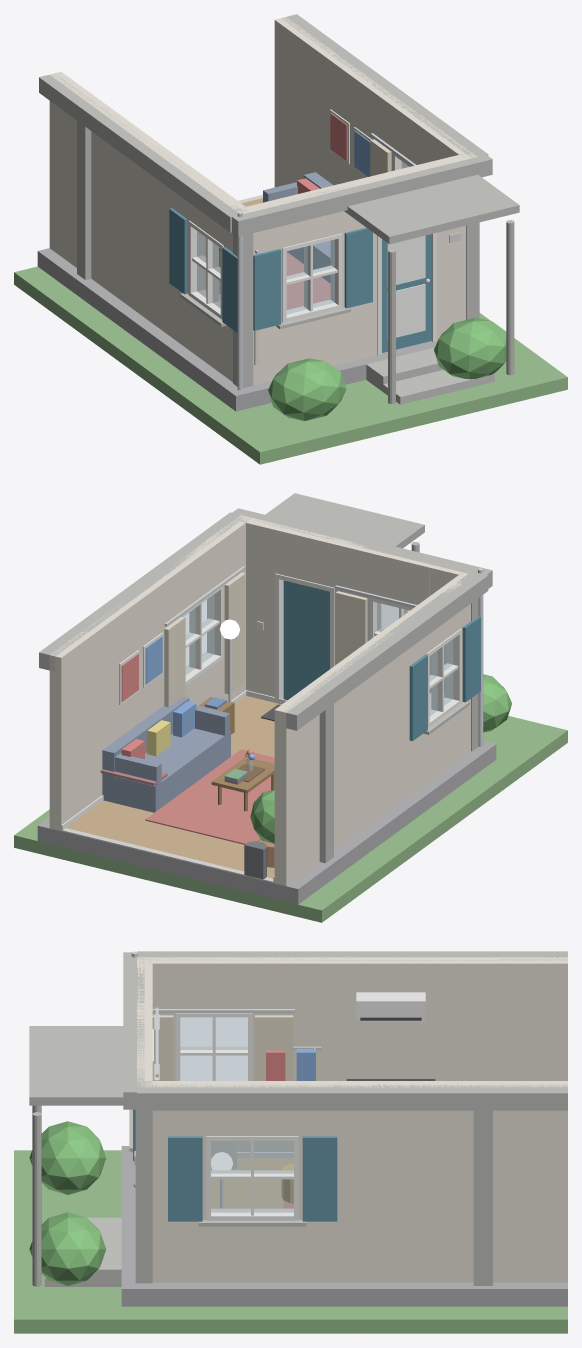
The model's file is tube_living.glb.
3 views of the same model, one above another, from view 1: azimuth 30°, elevation 25°; view 2: azimuth 150°, elevation 25°; view 3: azimuth 270°, elevation 25° (orthographic). The views are drawn at different scales.
Parts seen in each view (by area): view 1: wall, concrete, grass, trim, door, green, foundation, stone, glass, sofa, metal, rug (+3 smaller); view 2: wall, concrete, grass, foundation, trim, sofa, door, floor_wood, curtain_warm, rug, glass, green (+7 smaller); view 3: wall, concrete, grass, foundation, glass, green, door, trim, curtain_warm, stone, floor_wood, white (+3 smaller).
Part boxes in pixels (left/top/right/bottom): wall: left=49, top=17, right=477, bottom=384; concrete: left=39, top=14, right=519, bottom=403; grass: left=14, top=266, right=567, bottom=464; trim: left=188, top=109, right=436, bottom=355; door: left=169, top=208, right=431, bottom=352; green: left=268, top=317, right=506, bottom=420; foundation: left=37, top=248, right=437, bottom=411; stone: left=180, top=293, right=494, bottom=404; glass: left=197, top=162, right=408, bottom=313; sofa: left=263, top=172, right=333, bottom=283; metal: left=237, top=133, right=460, bottom=390; rug: left=206, top=238, right=330, bottom=309; wall: left=49, top=515, right=470, bottom=886; concrete: left=39, top=493, right=492, bottom=863; grass: left=14, top=716, right=567, bottom=922; foundation: left=37, top=741, right=496, bottom=904; trim: left=61, top=573, right=461, bottom=881; sofa: left=102, top=696, right=230, bottom=812; door: left=283, top=580, right=480, bottom=740; floor_wood: left=66, top=696, right=281, bottom=878; curtain_warm: left=164, top=572, right=445, bottom=707; rug: left=145, top=749, right=274, bottom=844; glass: left=184, top=594, right=452, bottom=771; green: left=250, top=674, right=511, bottom=843; wall: left=137, top=957, right=567, bottom=1282; concrete: left=29, top=951, right=567, bottom=1286; grass: left=14, top=1150, right=567, bottom=1333; foundation: left=121, top=1146, right=567, bottom=1306; glass: left=180, top=1017, right=293, bottom=1212; green: left=29, top=1121, right=106, bottom=1285; door: left=133, top=1109, right=337, bottom=1221; trim: left=152, top=1013, right=298, bottom=1220; curtain_warm: left=152, top=1014, right=293, bottom=1080; stone: left=44, top=1109, right=306, bottom=1286; floor_wood: left=211, top=1158, right=293, bottom=1208; white: left=356, top=992, right=425, bottom=1022.
Size of the model in its own units: 5.2 by 3.3 by 7.2.
